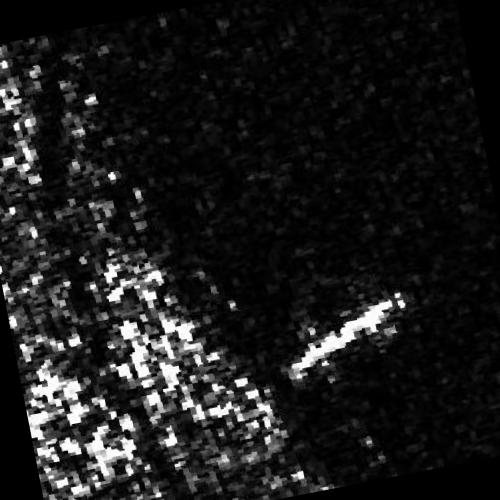ship: (288, 291, 410, 385)
